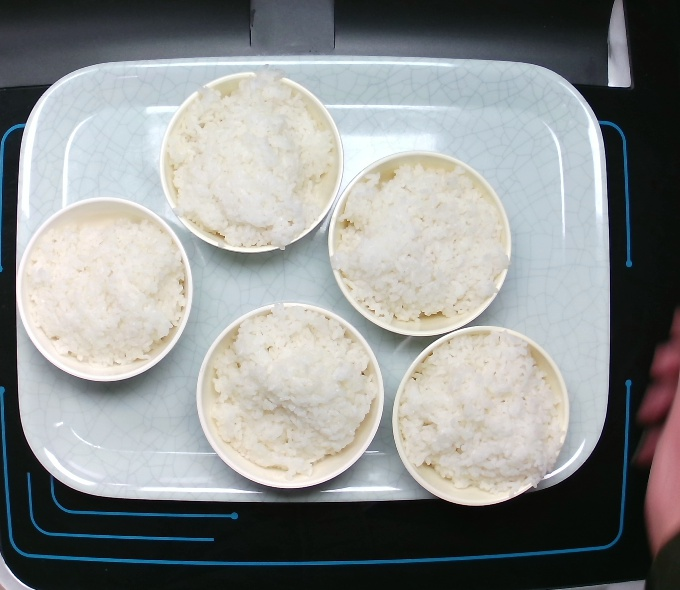wcq-MiFan: (332, 163, 507, 329), (395, 326, 559, 500), (21, 204, 184, 378), (169, 82, 332, 256), (210, 311, 373, 485)
